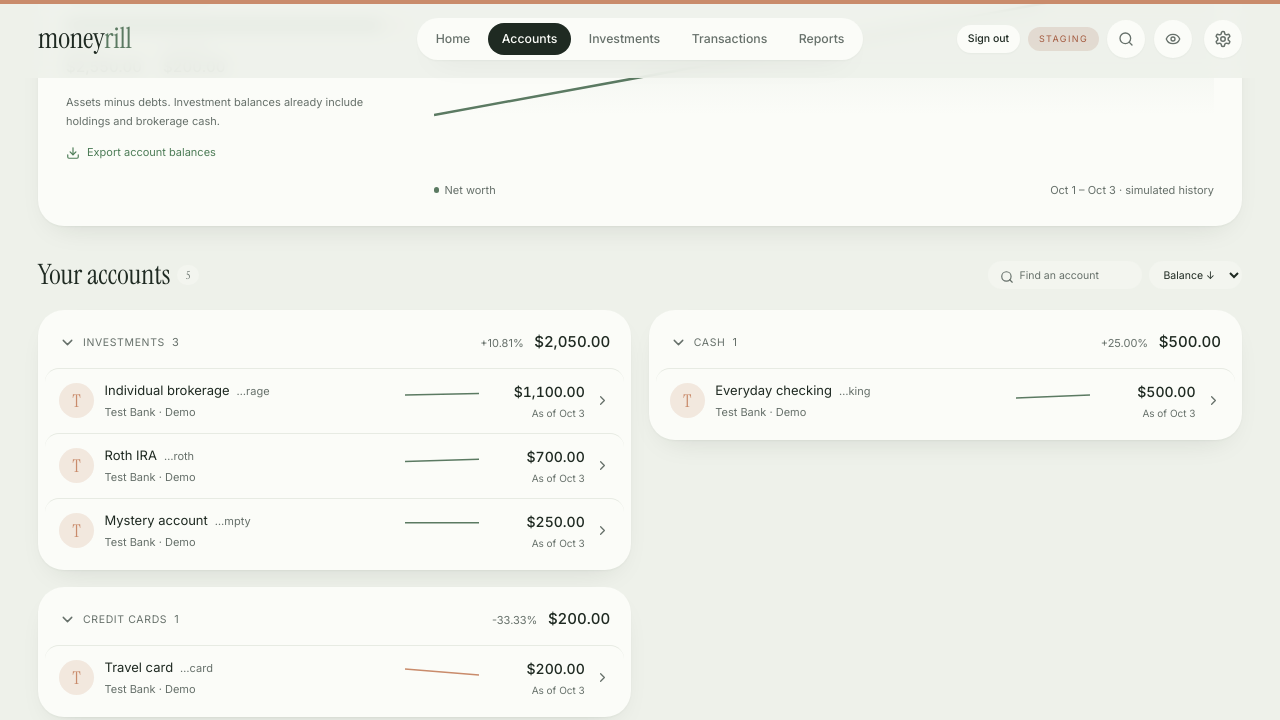
Test: Account page › opens from the account list and goes back to it
(page scrolled)
Click the button "Everyday checking". click: (687, 401)
box: x1=656 y1=368 x2=1235 y2=433
(page scrolled)
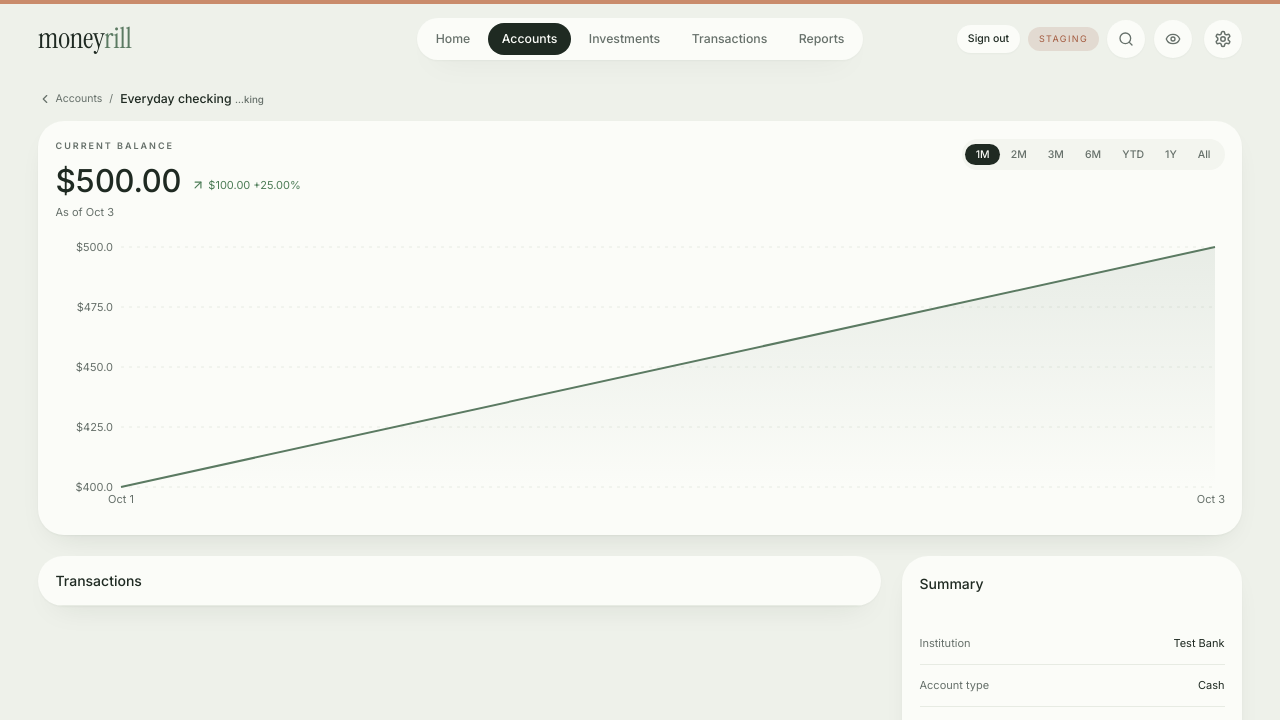
Expected: the text "$500.00" is shown, x1=56 y1=163 x2=181 y2=198
Expected: the heading "Everyday checking…king" is shown, x1=120 y1=90 x2=264 y2=107
Expected: the text "CURRENT BALANCE" is shown, x1=56 y1=140 x2=174 y2=151
Click the link "Accounts" next to "Everyday checking". click: (70, 98)
box: x1=38 y1=92 x2=102 y2=106
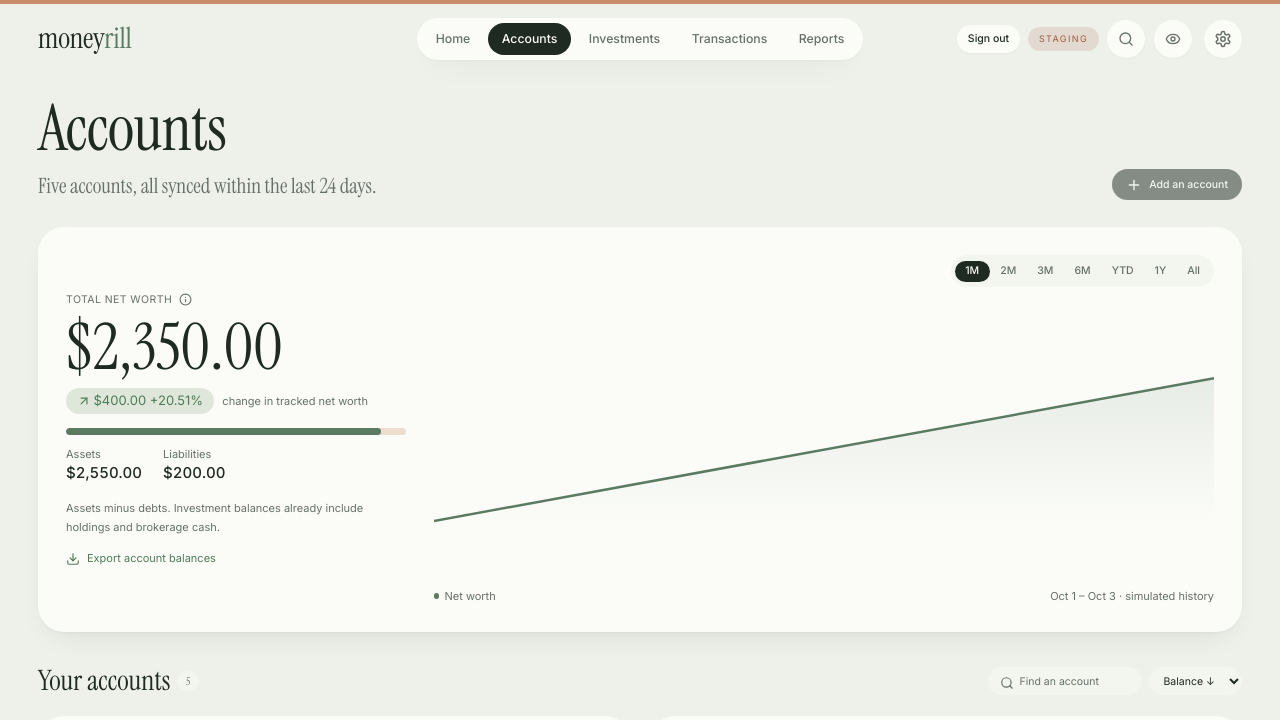
Expected: the text "TOTAL NET WORTH" is shown, x1=66 y1=293 x2=192 y2=306
